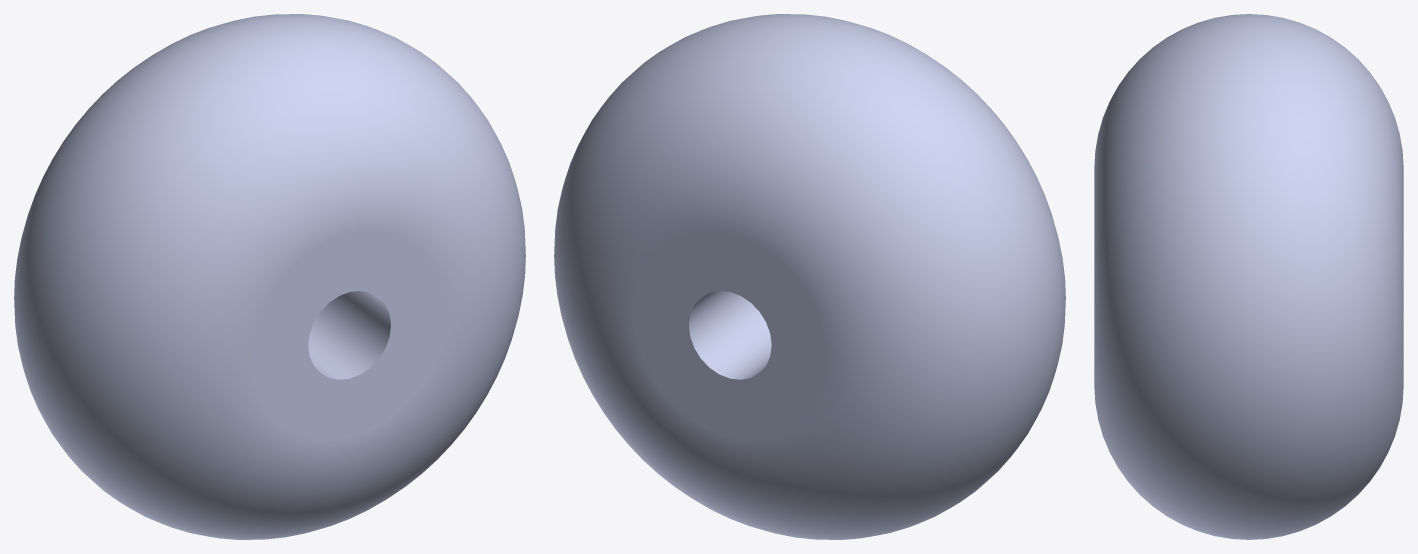
Rendered from roda.dae.
3 renders of one model, left to right at view 1: azimuth 30°, elevation 25°; view 2: azimuth 150°, elevation 25°; view 3: azimuth 270°, elevation 25°, orthographic. The views are drawn at different scales.
Visible parts, largest first — view 1: node_f2c91f95_7a4b_4eb0_820a_be005f31262f_mesh0; view 2: node_f2c91f95_7a4b_4eb0_820a_be005f31262f_mesh0; view 3: node_f2c91f95_7a4b_4eb0_820a_be005f31262f_mesh0.
Part boxes in pixels (box(x1,y1,x2,y2)): node_f2c91f95_7a4b_4eb0_820a_be005f31262f_mesh0: box(14, 14, 525, 539); node_f2c91f95_7a4b_4eb0_820a_be005f31262f_mesh0: box(554, 14, 1065, 539); node_f2c91f95_7a4b_4eb0_820a_be005f31262f_mesh0: box(1094, 14, 1403, 539).
Bounding box in the file's own units: 0.034 × 0.034 × 0.02.
